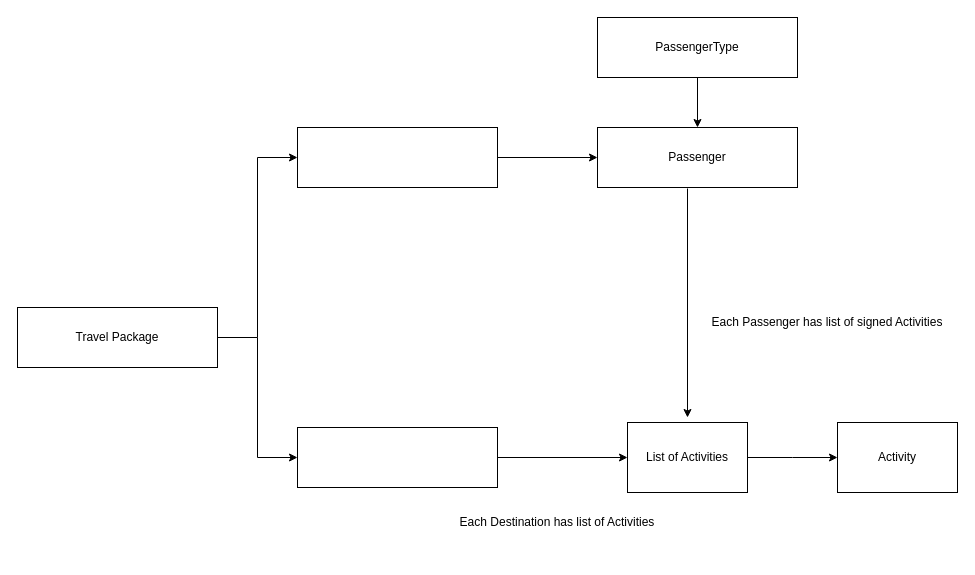
Some shapes in this 975 by 575 pixel diagram are drawn without their labels. Each missing label, with the centre of its shape:
"List of Destinations" goes at point (397, 457).
"List of Passengers" goes at point (397, 157).
